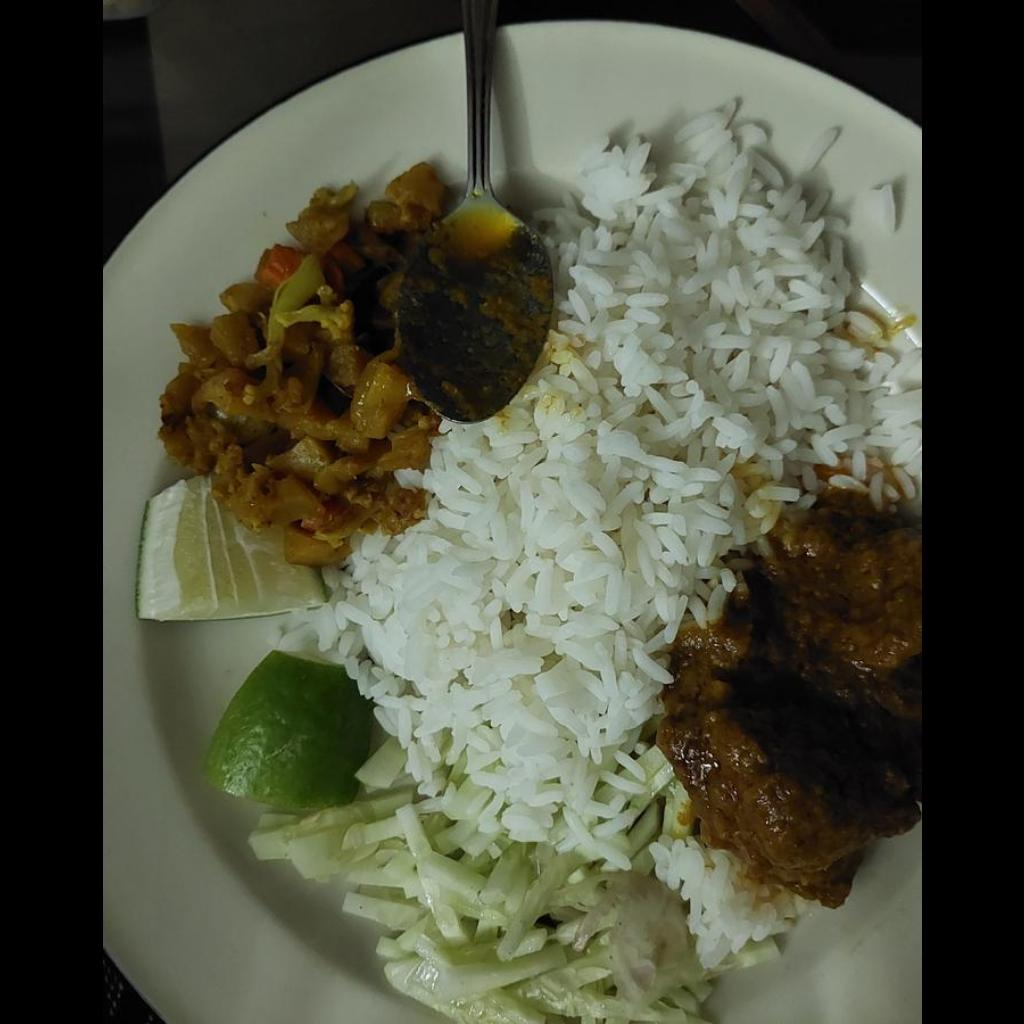beef: (662, 507, 920, 900)
lemon: (138, 482, 356, 813)
rice: (314, 107, 920, 832)
salad: (249, 793, 781, 1022)
vaji: (157, 171, 447, 565)
